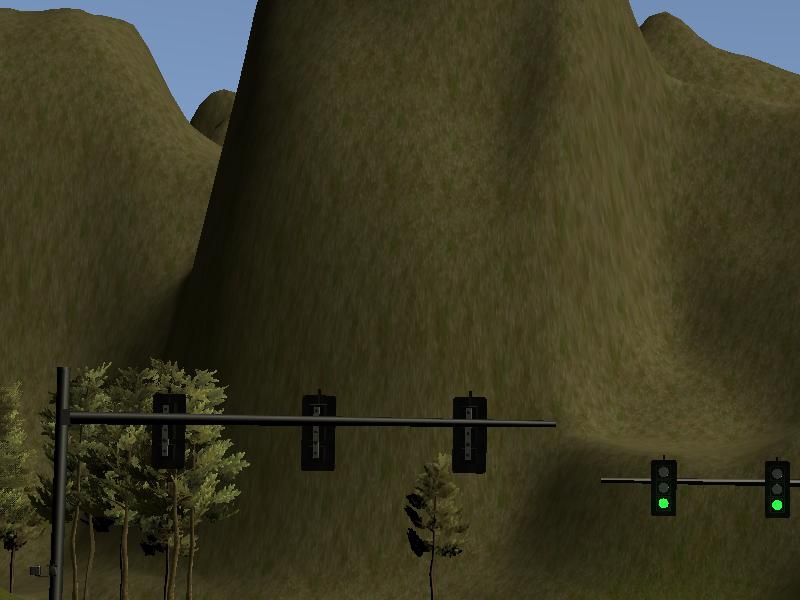Green: (650, 459, 675, 515), (765, 461, 788, 519)
